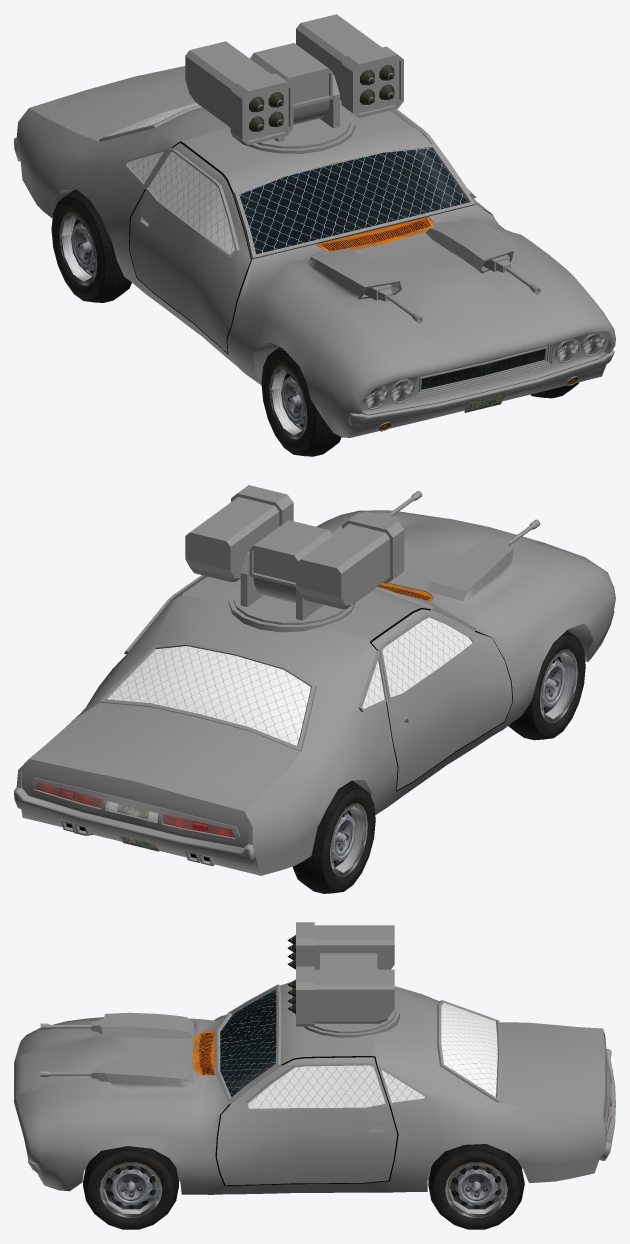
Rendered from Fast_Tank.FBX.
3 renders of one model, top to bottom at view 1: azimuth 30°, elevation 25°; view 2: azimuth 150°, elevation 25°; view 3: azimuth 270°, elevation 25°, orthographic. The views are drawn at different scales.
Visible parts, largest first — view 1: Fast_tank_body, Missile Launcher Right, Missile Launcher Left, RearFastTankTireLeft, FrontFastTankTireLeft, MIddle Part, ML_Horizontal Rotation, ML_Vertical Rotation; view 2: Fast_tank_body, Missile Launcher Right, Missile Launcher Left, RearFastTankTireLeft, FrontFastTankTireLeft, MIddle Part, ML_Horizontal Rotation, ML_Vertical Rotation, TurretWall2; view 3: Fast_tank_body, RearFastTankTireRight, FrontFastTankTireRight, Missile Launcher Left, Missile Launcher Right, MIddle Part, ML_Horizontal Rotation, Fast Tank Gun Left.
Part boxes in pixels (bbox=[...]): Fast_tank_body: bbox=[14, 66, 615, 437]; Missile Launcher Right: bbox=[185, 41, 293, 145]; Missile Launcher Left: bbox=[296, 14, 403, 118]; RearFastTankTireLeft: bbox=[51, 189, 131, 302]; FrontFastTankTireLeft: bbox=[261, 347, 341, 456]; MIddle Part: bbox=[250, 43, 332, 108]; ML_Horizontal Rotation: bbox=[256, 108, 350, 148]; ML_Vertical Rotation: bbox=[293, 100, 329, 124]; Fast_tank_body: bbox=[14, 510, 615, 875]; Missile Launcher Right: bbox=[296, 512, 404, 608]; Missile Launcher Left: bbox=[185, 485, 293, 581]; RearFastTankTireLeft: bbox=[293, 780, 375, 893]; FrontFastTankTireLeft: bbox=[508, 630, 585, 740]; MIddle Part: bbox=[249, 520, 332, 587]; ML_Horizontal Rotation: bbox=[233, 587, 346, 624]; ML_Vertical Rotation: bbox=[253, 577, 295, 602]; TurretWall2: bbox=[240, 551, 262, 606]; Fast_tank_body: bbox=[14, 981, 615, 1194]; RearFastTankTireRight: bbox=[428, 1144, 524, 1229]; FrontFastTankTireRight: bbox=[83, 1146, 178, 1229]; Missile Launcher Left: bbox=[296, 966, 394, 1026]; Missile Launcher Right: bbox=[296, 922, 394, 969]; MIddle Part: bbox=[320, 953, 377, 969]; ML_Horizontal Rotation: bbox=[312, 1009, 395, 1033]; Fast Tank Gun Left: bbox=[40, 1066, 109, 1081].
Size of the model in its own units: 135 by 124 by 300.
